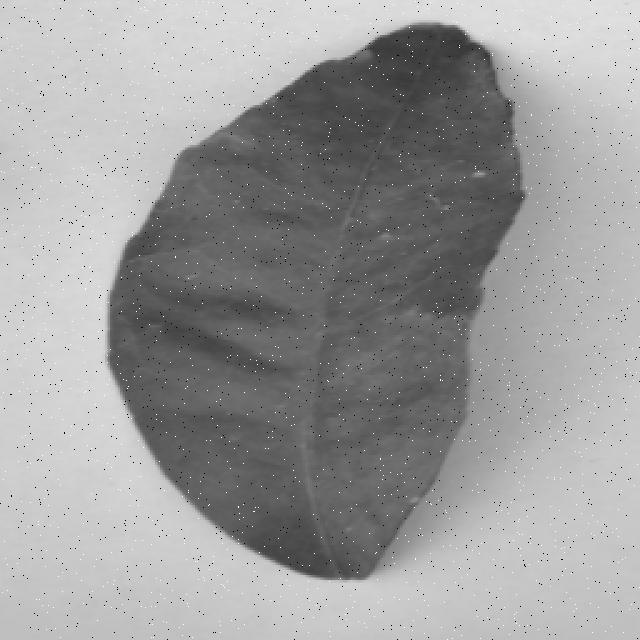healthy: (103, 21, 536, 579)
